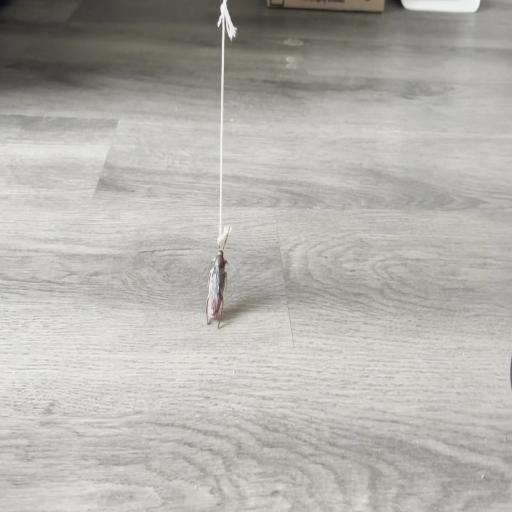cockroach: (204, 228, 232, 330)
